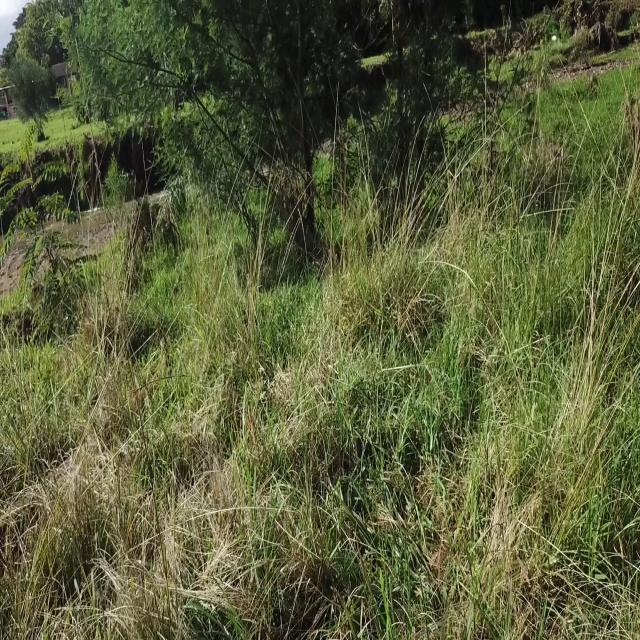Mysore-Thorn-Weed: (0, 123, 93, 344)
